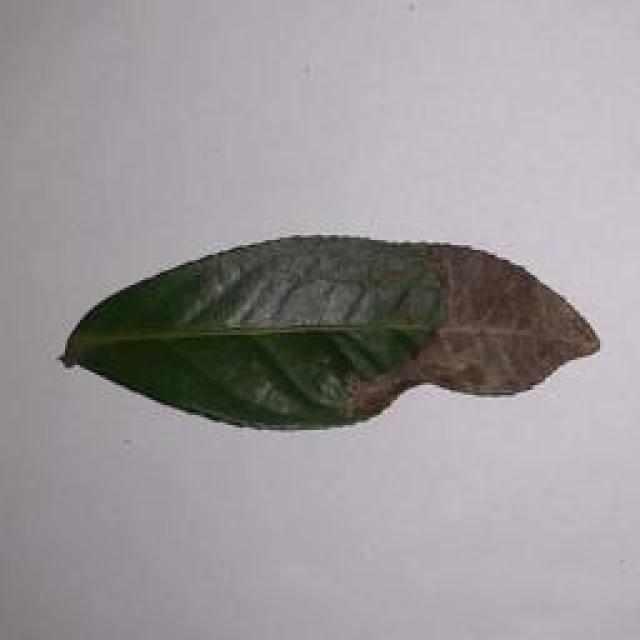Brown Blight: (56, 217, 619, 447)
